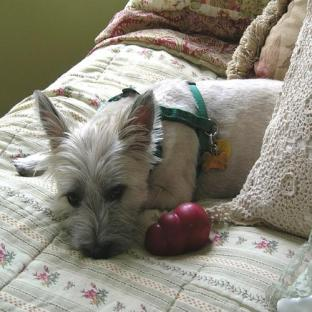Animal: (14, 79, 282, 258)
